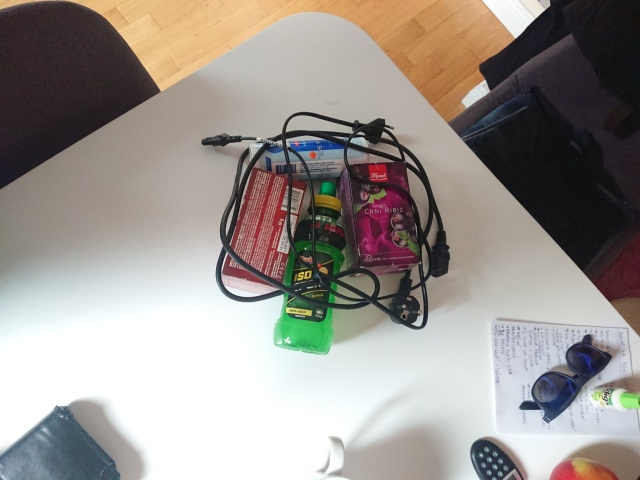Franck Apple Cinnamon Tea 60g: (220, 165, 310, 290)
Franck Black Currant Tea 60g: (333, 158, 425, 279)
Solana Pag Fine Sea Salt 250g: (247, 134, 373, 183)
Vindi Iso Sport Lemon-Grapefruit 500mL: (271, 178, 348, 357)
